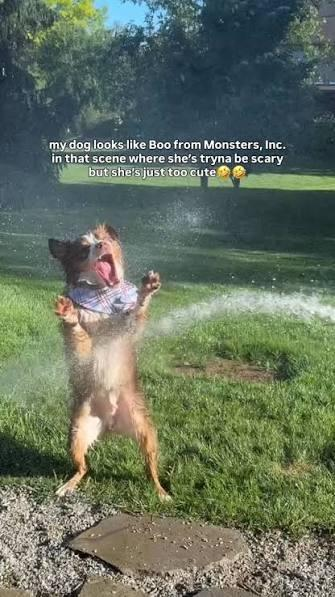adult_dog: (48, 221, 173, 504)
